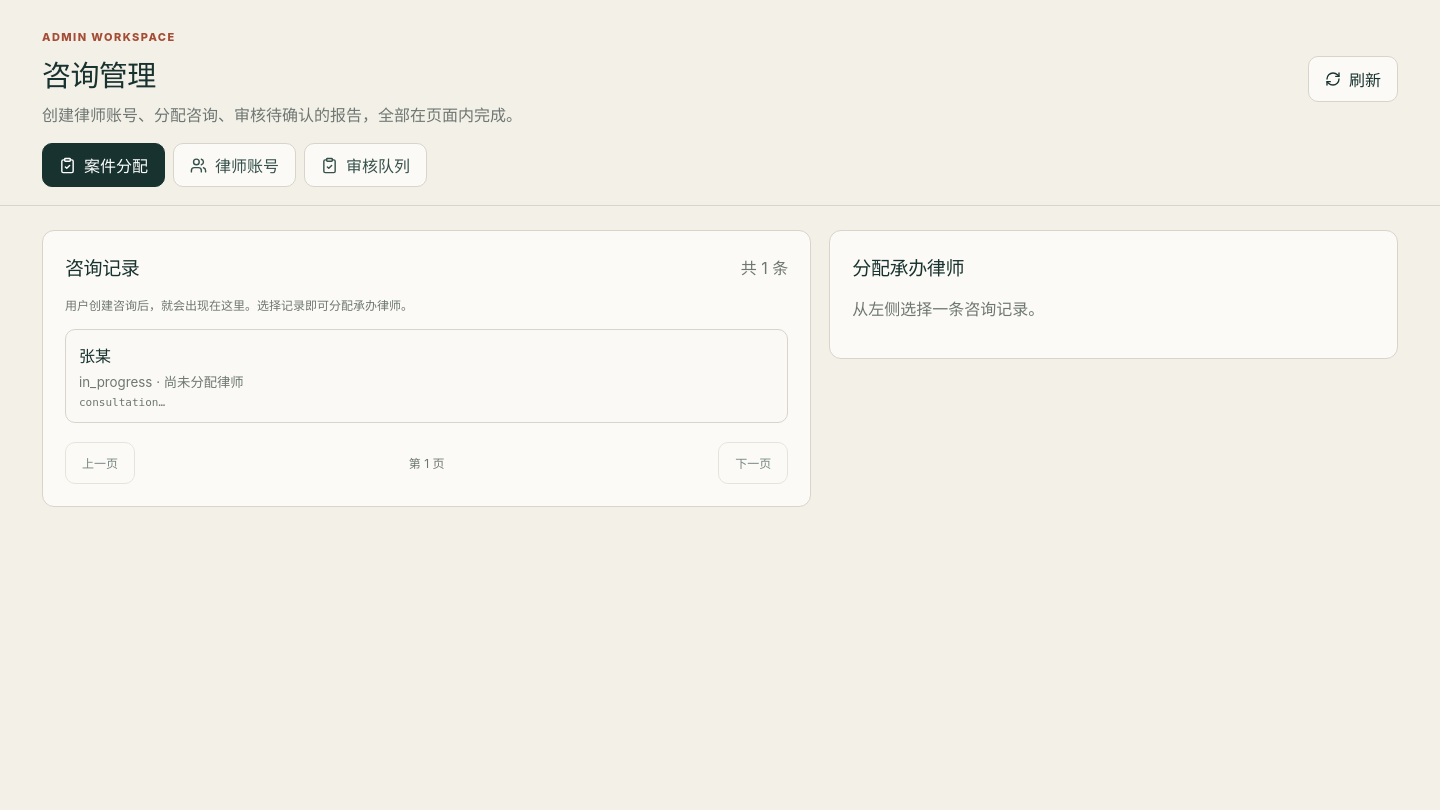
Test: AdminWorkspace basic operations › allows navigating to the existing administrator review queue
Click the button "审核队列" at (366, 165), box [304, 143, 427, 187]
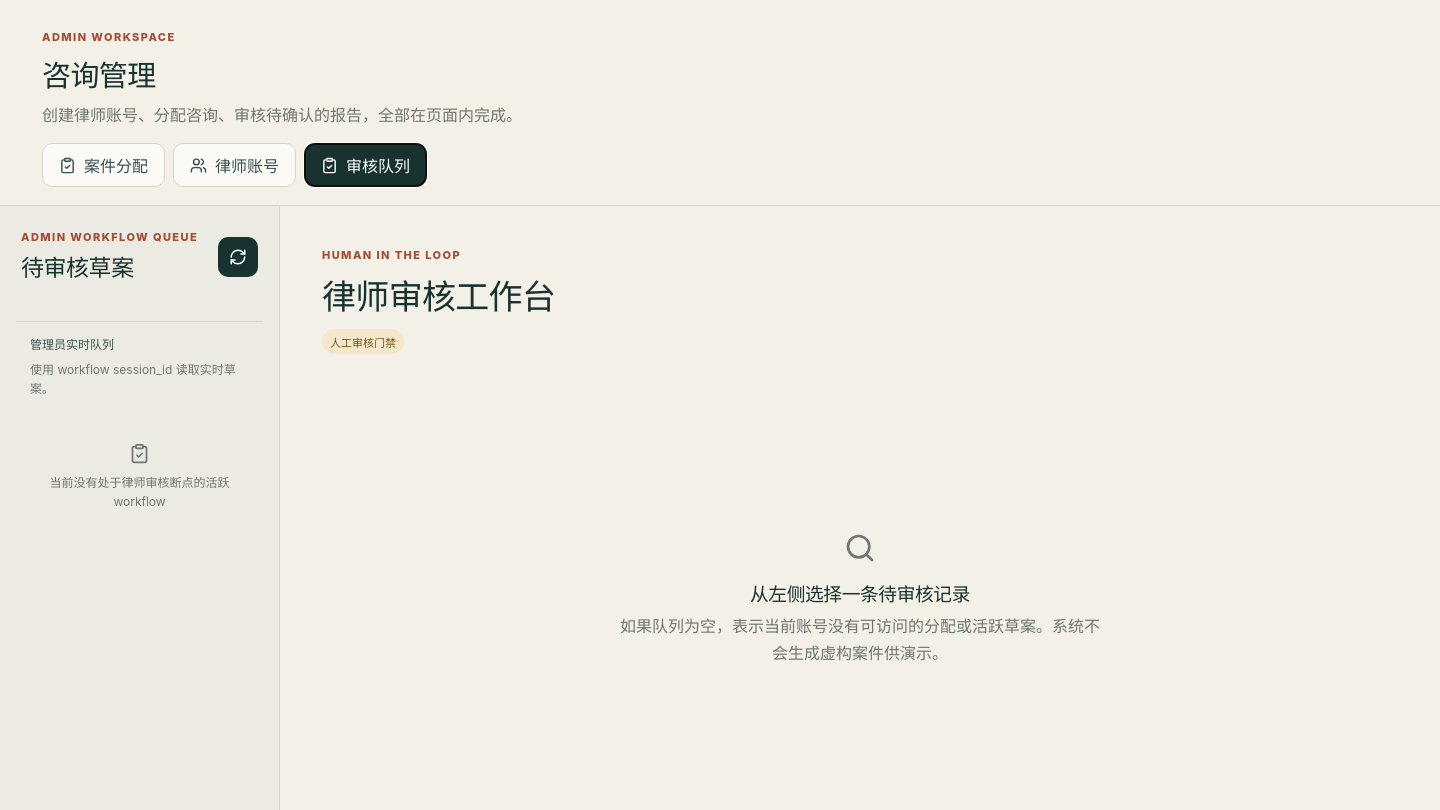
Expected: the heading "律师审核工作台" is shown, [322, 270, 555, 319]
